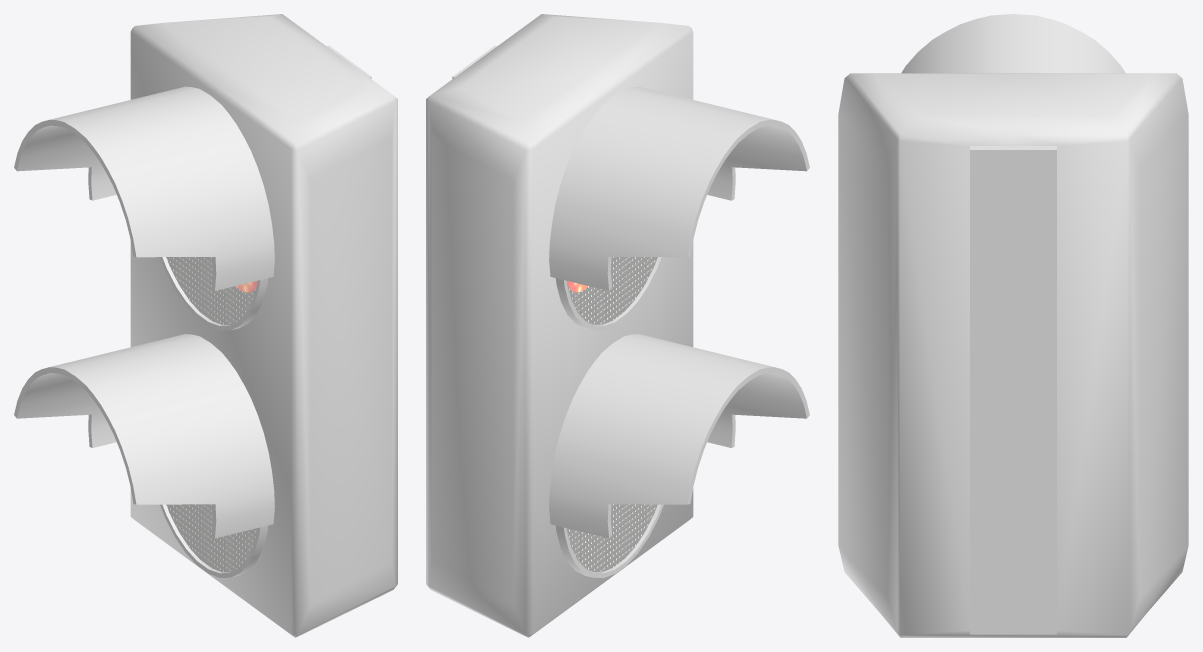
The model's file is 单车指示灯_RedLight.glb.
3 views of the same model, side by side, from view 1: azimuth 30°, elevation 25°; view 2: azimuth 150°, elevation 25°; view 3: azimuth 270°, elevation 25° (orthographic).
Visible parts, largest first — view 1: 单车指示灯_RedLight; view 2: 单车指示灯_RedLight; view 3: 单车指示灯_RedLight.
Part boxes in pixels (x1=…): 单车指示灯_RedLight: x1=14, y1=14, x2=397, y2=637; 单车指示灯_RedLight: x1=426, y1=14, x2=809, y2=637; 单车指示灯_RedLight: x1=838, y1=14, x2=1188, y2=637.
Size of the model in its own units: 0.6001 by 1.06 by 0.65.
Materials: 3 (2 with a texture image).
